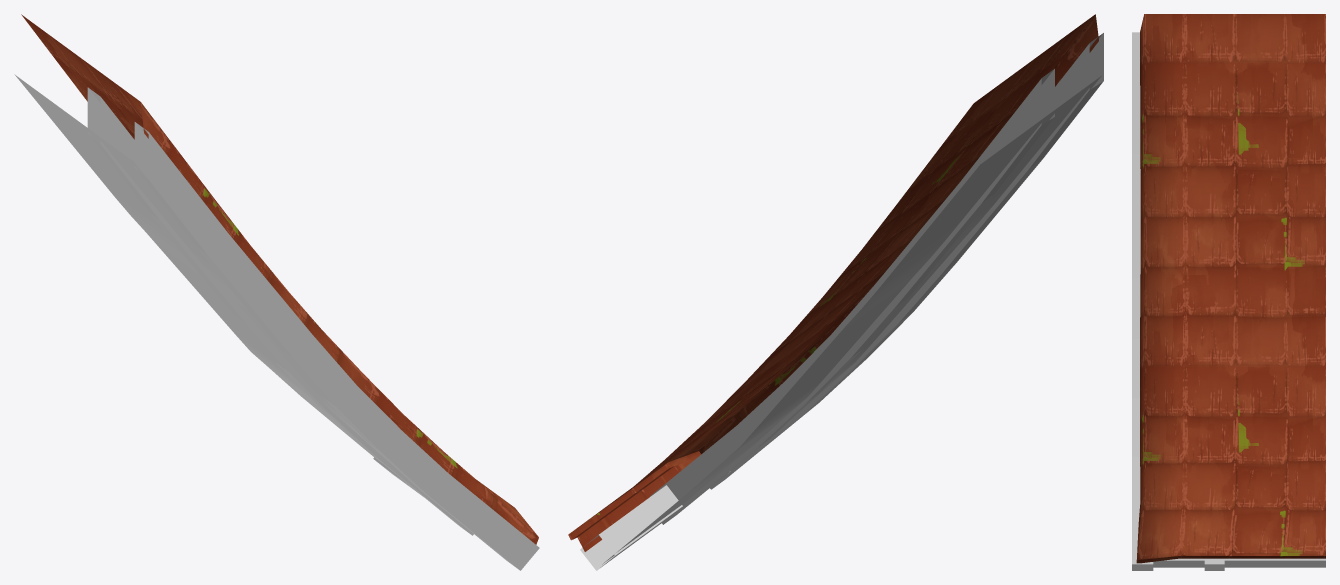
Rendered from Roof_Modular_FlatTiles_6_L_Half.fbx.
3 views of the same model, side by side, from view 1: azimuth 30°, elevation 25°; view 2: azimuth 150°, elevation 25°; view 3: azimuth 270°, elevation 25° (orthographic). The views are drawn at different scales.
Visible parts, largest first — view 1: Roof_Modular_FlatTiles_6_L_Half; view 2: Roof_Modular_FlatTiles_6_L_Half; view 3: Roof_Modular_FlatTiles_6_L_Half.
Part boxes in pixels (x1,y1,x2,y2): Roof_Modular_FlatTiles_6_L_Half: (14,14,539,570); Roof_Modular_FlatTiles_6_L_Half: (568,14,1103,570); Roof_Modular_FlatTiles_6_L_Half: (1132,14,1325,570).
Bounding box in the file's own units: 410 × 536 × 224.
